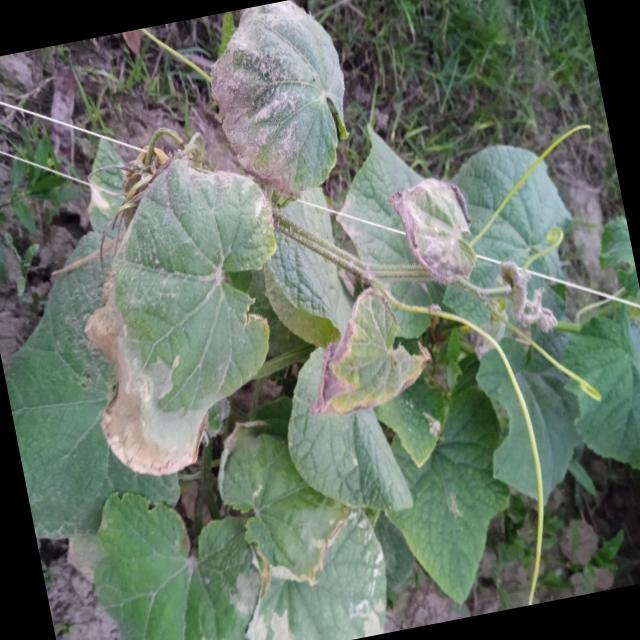cucumber_bacterial: (36, 135, 320, 487), (152, 384, 408, 640), (172, 0, 390, 211), (295, 235, 452, 471), (388, 134, 524, 324)
